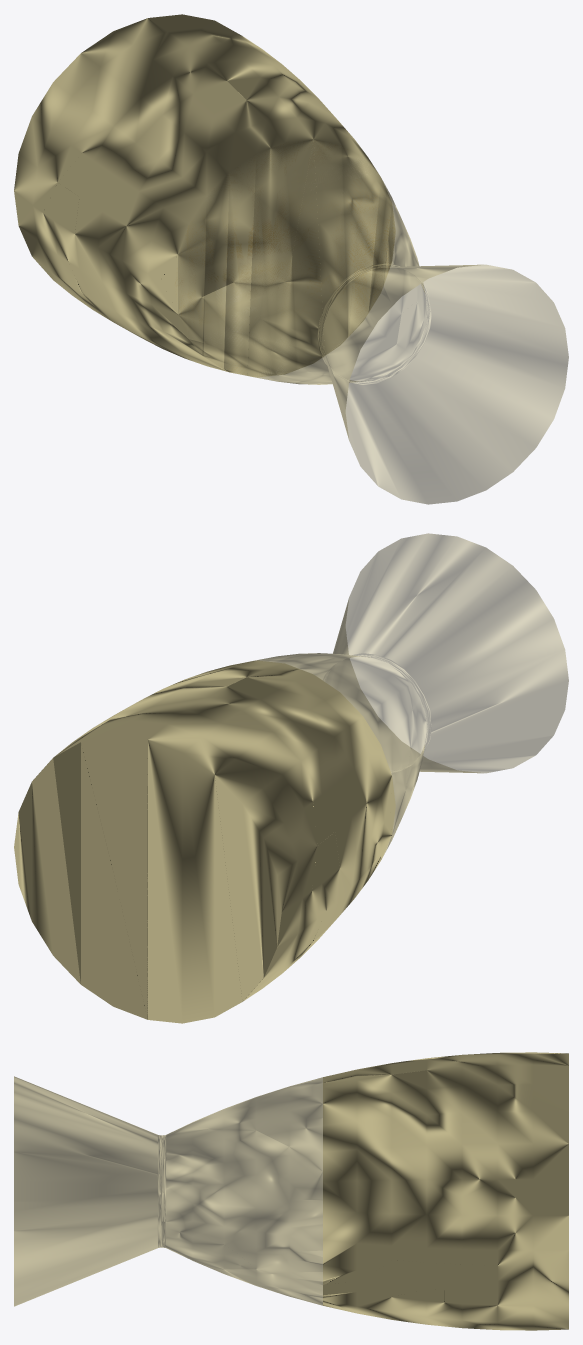
File: model_align.obj
3 views of the same model, one above another, from view 1: azimuth 30°, elevation 25°; view 2: azimuth 150°, elevation 25°; view 3: azimuth 270°, elevation 25° (orthographic). The views are drawn at different scales.
Size of the model in its own units: 0.1143 by 0.1143 by 0.2272.
